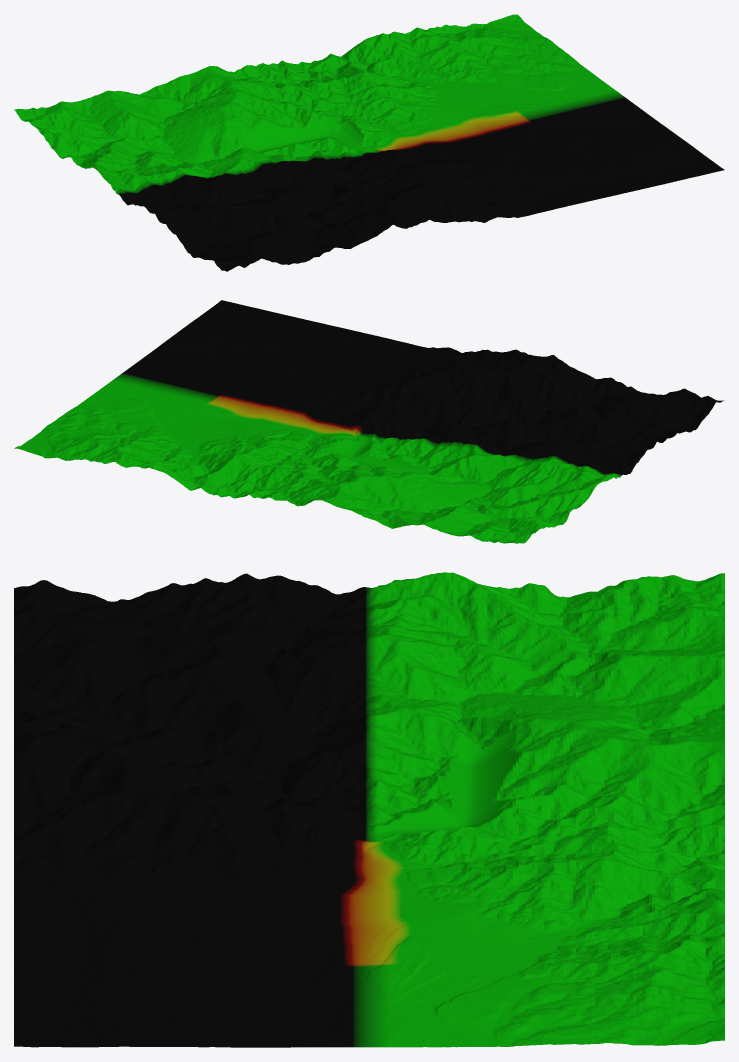
File: valley.glb
3 views of the same model, one above another, from view 1: azimuth 30°, elevation 25°; view 2: azimuth 150°, elevation 25°; view 3: azimuth 270°, elevation 25° (orthographic). The views are drawn at different scales.
Visible parts, largest first — view 1: terrain; view 2: terrain; view 3: terrain.
Part boxes in pixels (x1,y1,x2,y2): terrain: (14,14,724,271); terrain: (14,300,724,543); terrain: (14,572,724,1047).
Bounding box in the file's own units: 1570 × 97.5 × 1122.
